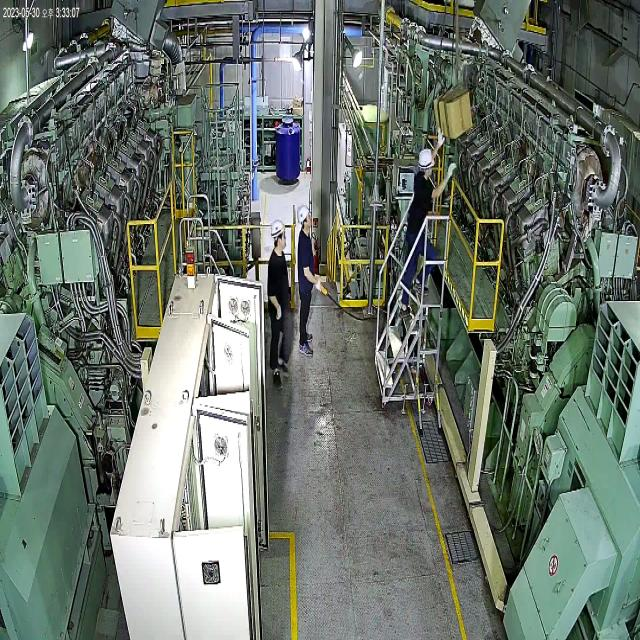Water Tank: (272, 104, 302, 190)
worker: (397, 124, 456, 323), (288, 196, 331, 362), (262, 210, 297, 394)
